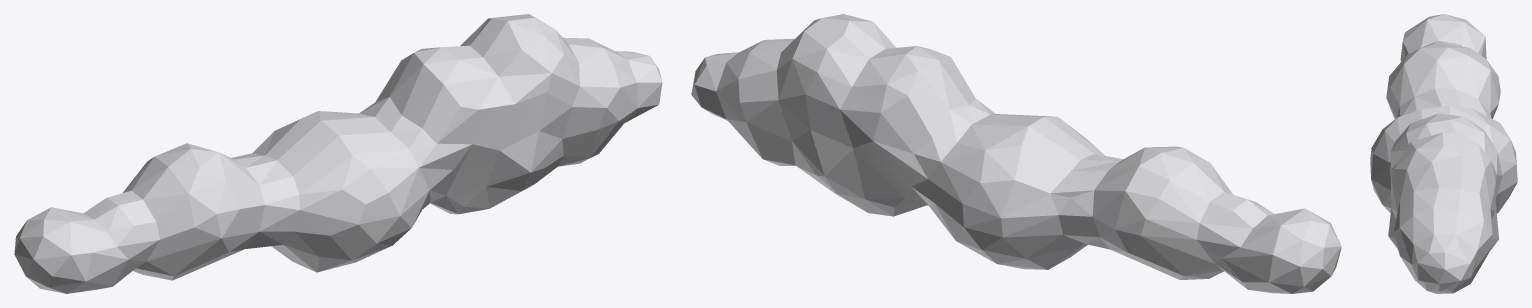
File: big_cloud_2.fbx
3 renders of one model, left to right at view 1: azimuth 30°, elevation 25°; view 2: azimuth 150°, elevation 25°; view 3: azimuth 270°, elevation 25°, orthographic. The views are drawn at different scales.
Parts seen in each view (by area): view 1: cloud_42; view 2: cloud_42; view 3: cloud_42.
Part boxes in pixels (x1=…): cloud_42: x1=14, y1=14, x2=662, y2=293; cloud_42: x1=691, y1=14, x2=1341, y2=293; cloud_42: x1=1370, y1=14, x2=1517, y2=293.
Bounding box in the file's own units: 1274 × 374 × 301.
